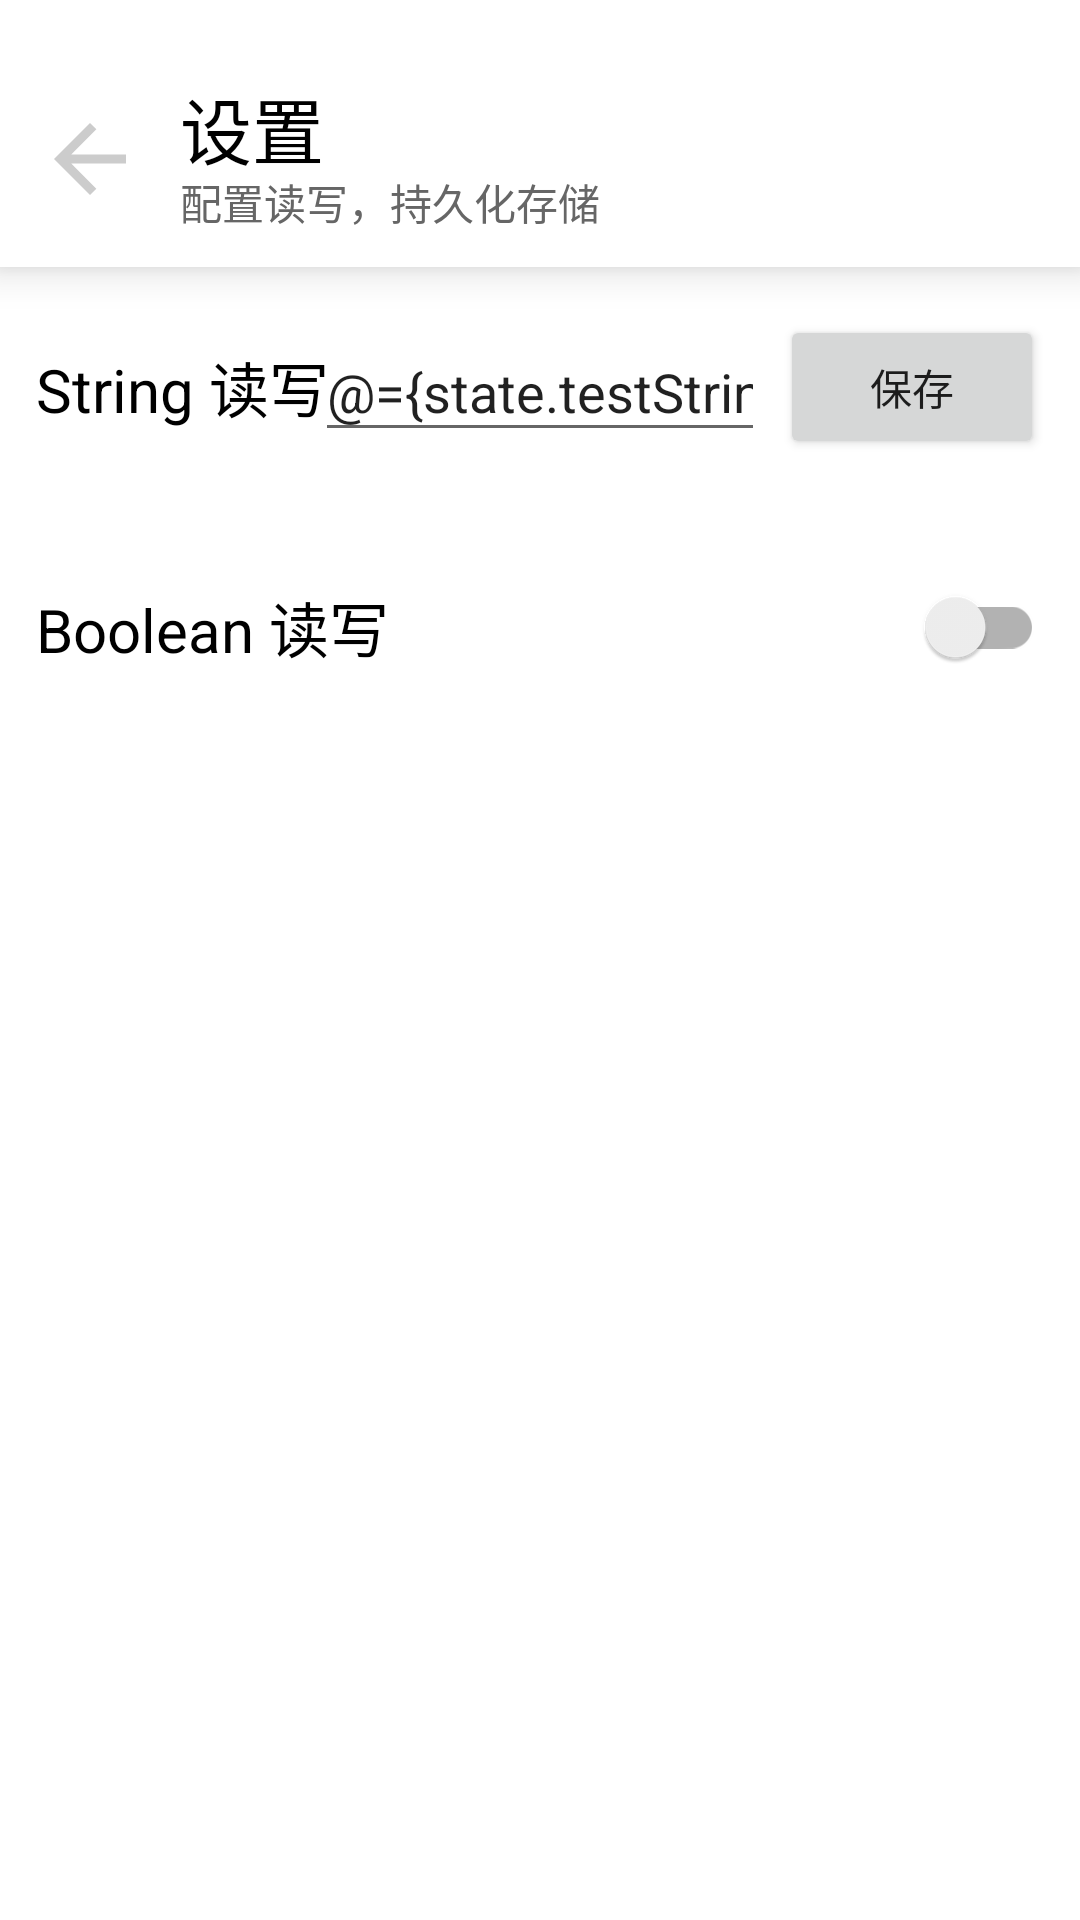

Icon bounding boxes for this 1080 × 1920 phone screenshot, format (x1, y1, x2, y2):
arrow back: (54, 123, 126, 195)
